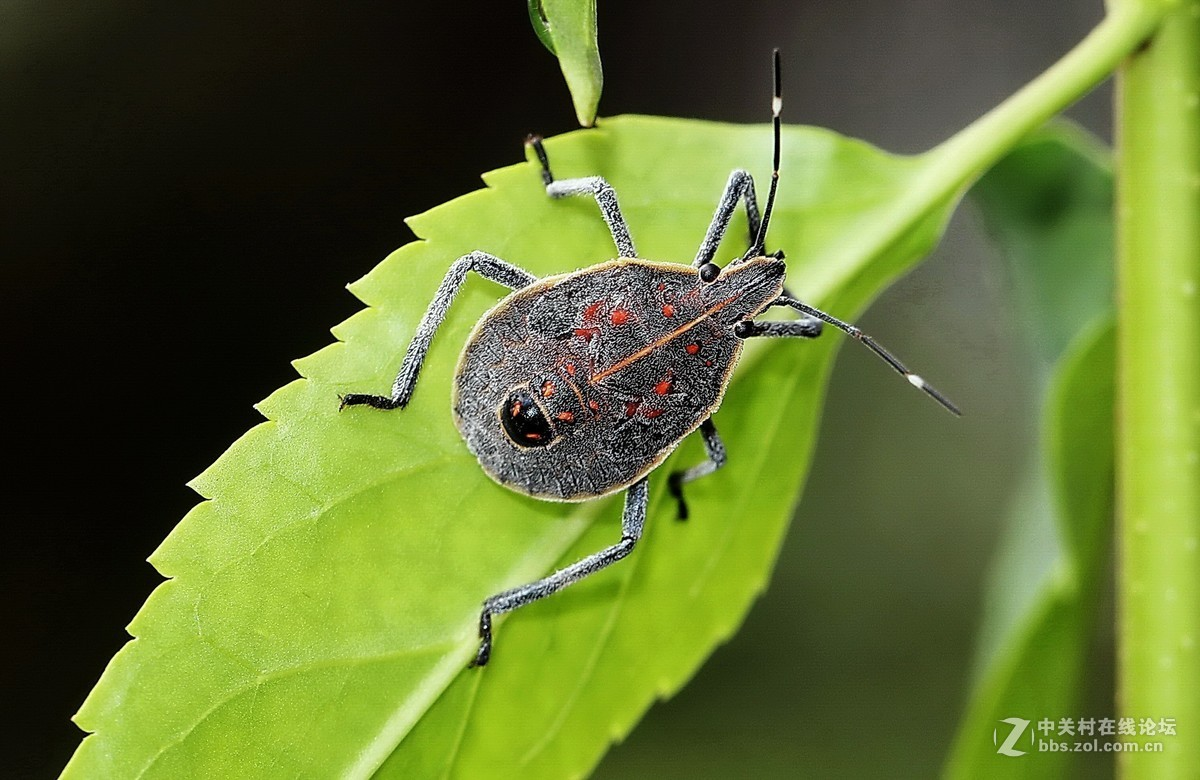chunchong: (409, 180, 845, 534)
